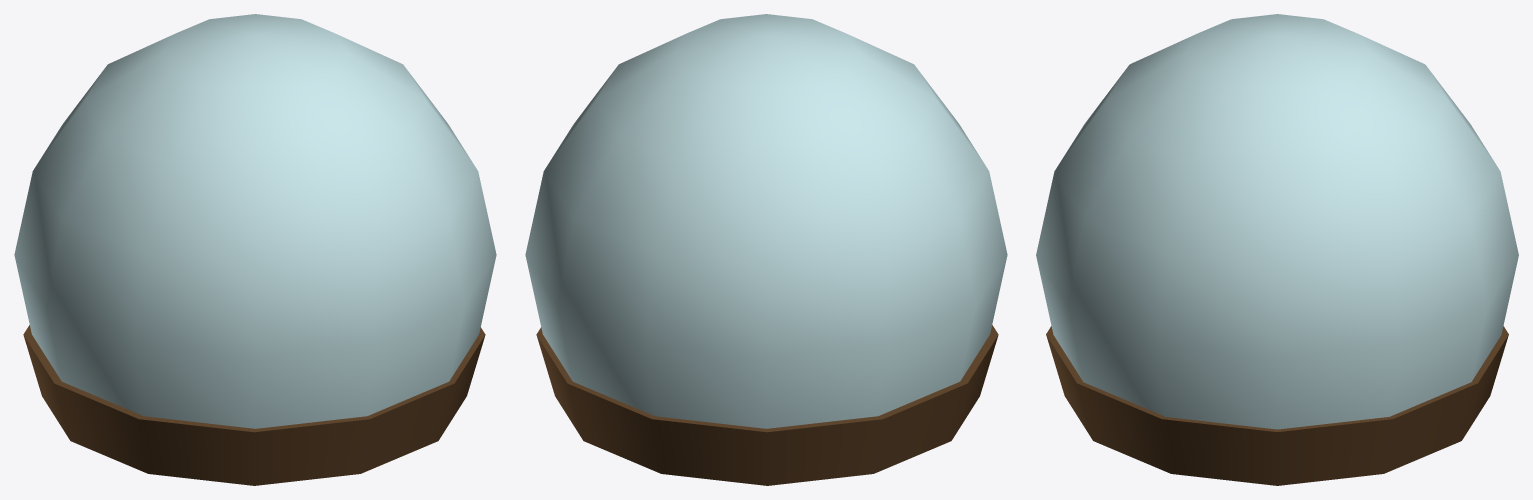
Rendered from BaikalSphere.fbx.
3 renders of one model, left to right at view 1: azimuth 30°, elevation 25°; view 2: azimuth 150°, elevation 25°; view 3: azimuth 270°, elevation 25°, orthographic.
Parts seen in each view (by area): view 1: Sphere, Cone; view 2: Sphere, Cone; view 3: Sphere, Cone.
Part boxes in pixels (x1,y1,x2,y2): Sphere: [14, 14, 496, 428]; Cone: [23, 325, 485, 485]; Sphere: [525, 14, 1007, 428]; Cone: [536, 325, 998, 485]; Sphere: [1036, 14, 1518, 429]; Cone: [1046, 326, 1508, 485].
Size of the model in its own units: 38.42 by 31.61 by 38.42.
